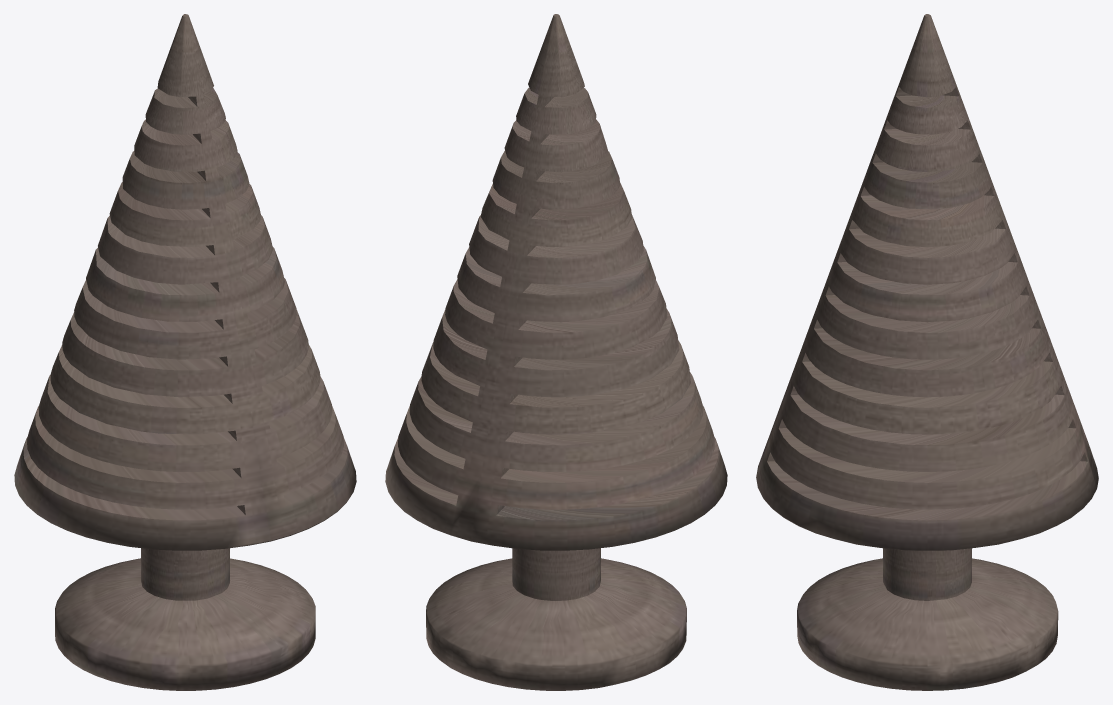
The model's file is Deco04.glb.
The picture shows the model from 3 angles, left to right: view 1: azimuth 30°, elevation 25°; view 2: azimuth 150°, elevation 25°; view 3: azimuth 270°, elevation 25°; orthographic projection.
Parts seen in each view (by area): view 1: BP_Deco04; view 2: BP_Deco04; view 3: BP_Deco04.
Part boxes in pixels (x1,y1,x2,y2): BP_Deco04: [14, 14, 356, 690]; BP_Deco04: [385, 14, 727, 690]; BP_Deco04: [756, 14, 1098, 690].
Size of the model in its own units: 0.0379 by 0.0758 by 0.0379.
Materials: 1 (1 with a texture image).
